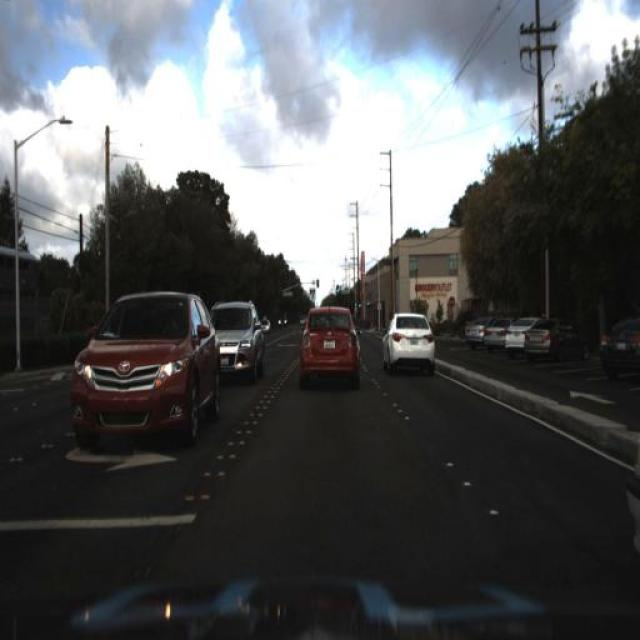car: (62, 280, 232, 462), (286, 292, 372, 397), (379, 300, 442, 372), (218, 293, 264, 389), (599, 312, 640, 383), (522, 312, 572, 358), (501, 316, 522, 362), (482, 313, 503, 352), (464, 312, 484, 352)
